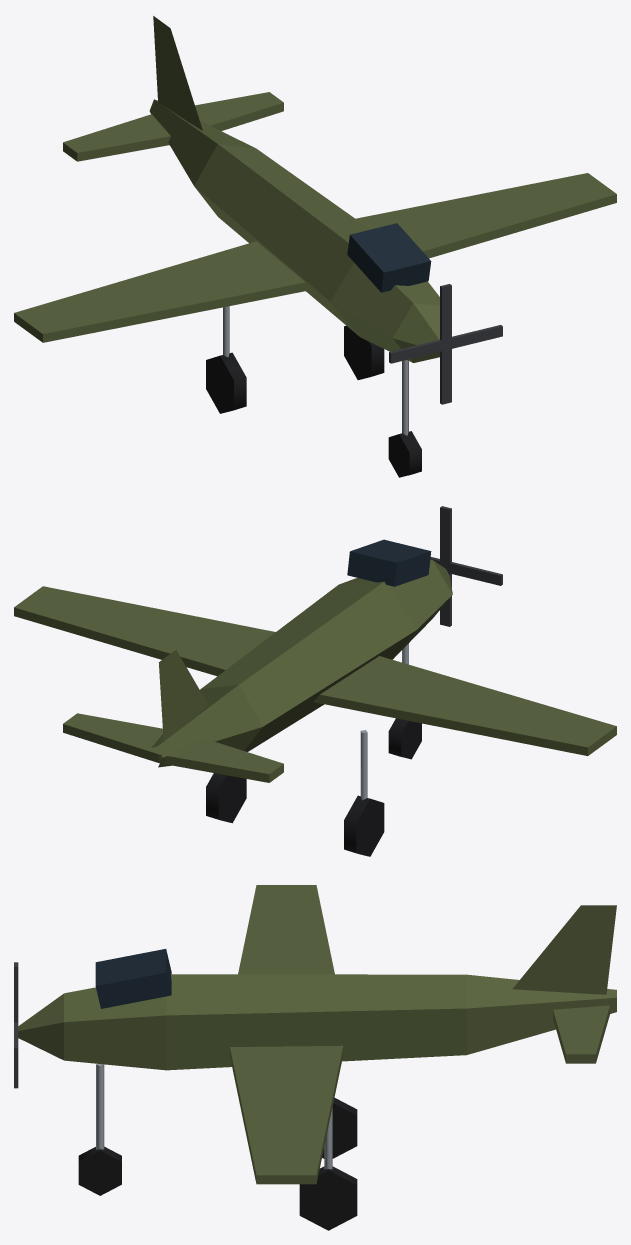
Rendered from veh_air_fighter_a06_lod1.glb.
3 views of the same model, one above another, from view 1: azimuth 30°, elevation 25°; view 2: azimuth 150°, elevation 25°; view 3: azimuth 270°, elevation 25° (orthographic). The views are drawn at different scales.
Visible parts, largest first — view 1: body, propeller_0, gear_1, gear_0, gear_2; view 2: body, gear_1, propeller_0, gear_2, gear_0; view 3: body, gear_2, gear_0, gear_1, propeller_0.
Part boxes in pixels (left/top/right/bottom): body: left=14, top=16, right=616, bottom=362; propeller_0: left=389, top=284, right=502, bottom=404; gear_1: left=206, top=306, right=246, bottom=413; gear_0: left=388, top=360, right=421, bottom=477; gear_2: left=344, top=325, right=384, bottom=379; body: left=14, top=539, right=616, bottom=782; gear_1: left=344, top=730, right=384, bottom=856; propeller_0: left=430, top=506, right=502, bottom=626; gear_2: left=206, top=773, right=246, bottom=823; gear_0: left=388, top=643, right=421, bottom=759; body: left=18, top=885, right=616, bottom=1184; gear_2: left=299, top=1107, right=357, bottom=1230; gear_0: left=78, top=1064, right=121, bottom=1195; gear_1: left=322, top=1097, right=357, bottom=1158; propeller_0: left=14, top=962, right=18, bottom=1088.
Bounding box in the file's own units: 8.24 × 3.82 × 7.24.
